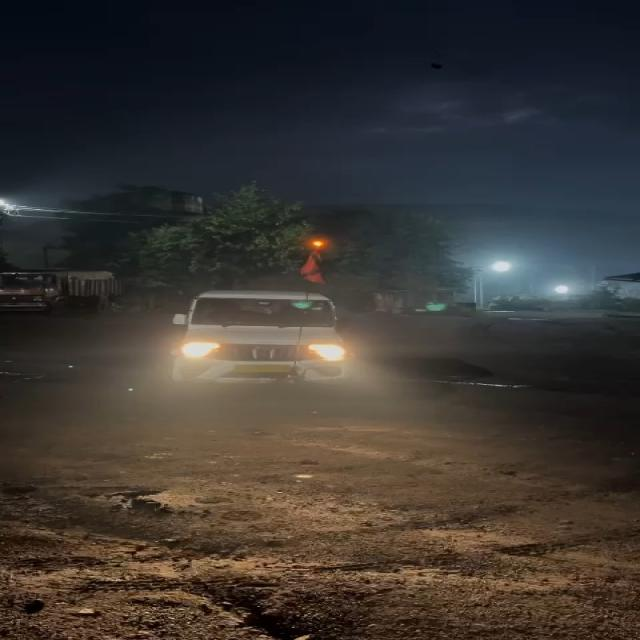light_vehicle: (179, 291, 346, 390)
